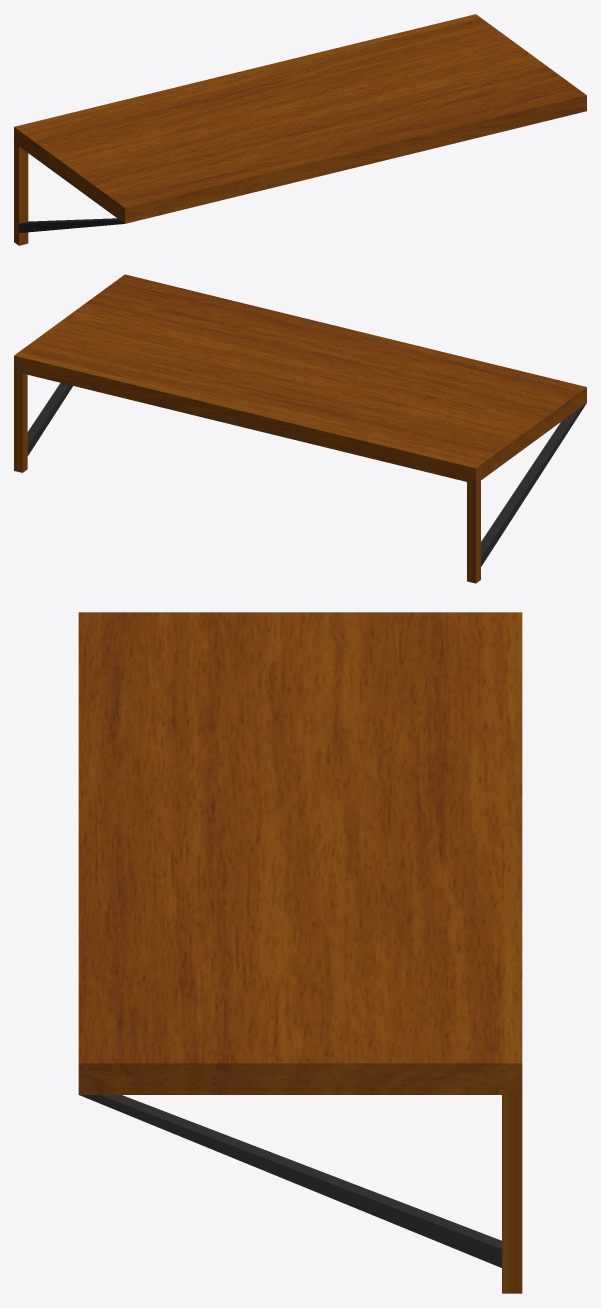
The model's file is Repisa.fbx.
The picture shows the model from 3 angles, top to bottom: view 1: azimuth 30°, elevation 25°; view 2: azimuth 150°, elevation 25°; view 3: azimuth 270°, elevation 25°; orthographic projection. The views are drawn at different scales.
Parts seen in each view (by area): view 1: Cube; view 2: Cube; view 3: Cube.
Part boxes in pixels (bbox=[...]): Cube: bbox=[14, 14, 586, 245]; Cube: bbox=[14, 274, 586, 583]; Cube: bbox=[78, 612, 522, 1293].
Bounding box in the file's own units: 173 × 41.25 × 72.
2 materials, 1 textured.
